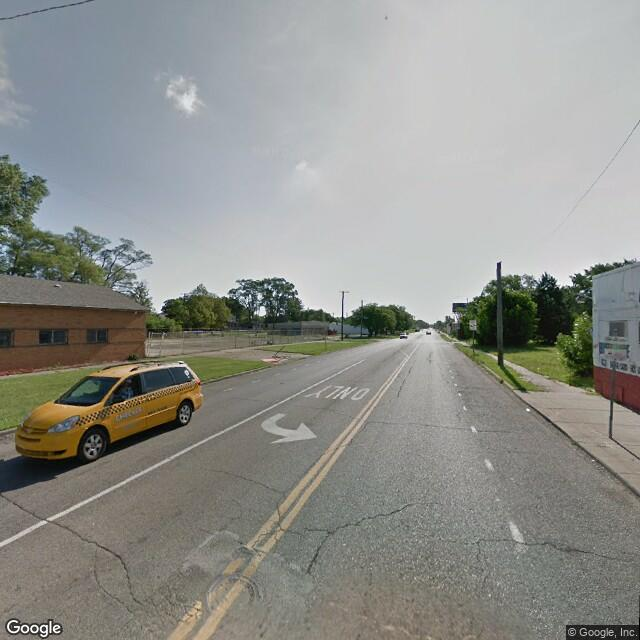litter: (519, 403, 537, 415)
